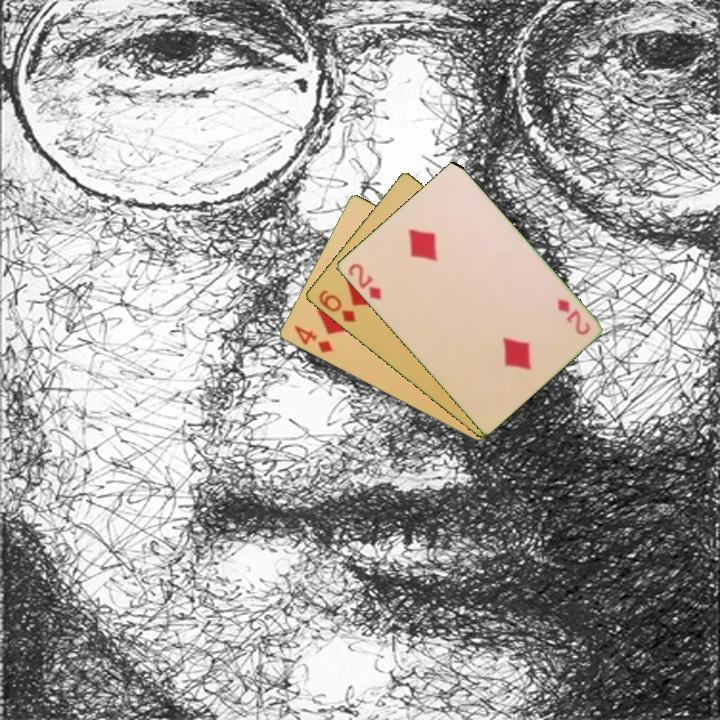2d: (344, 260, 384, 303), (553, 295, 593, 338)
4d: (290, 322, 336, 356)
6d: (315, 286, 359, 325)
